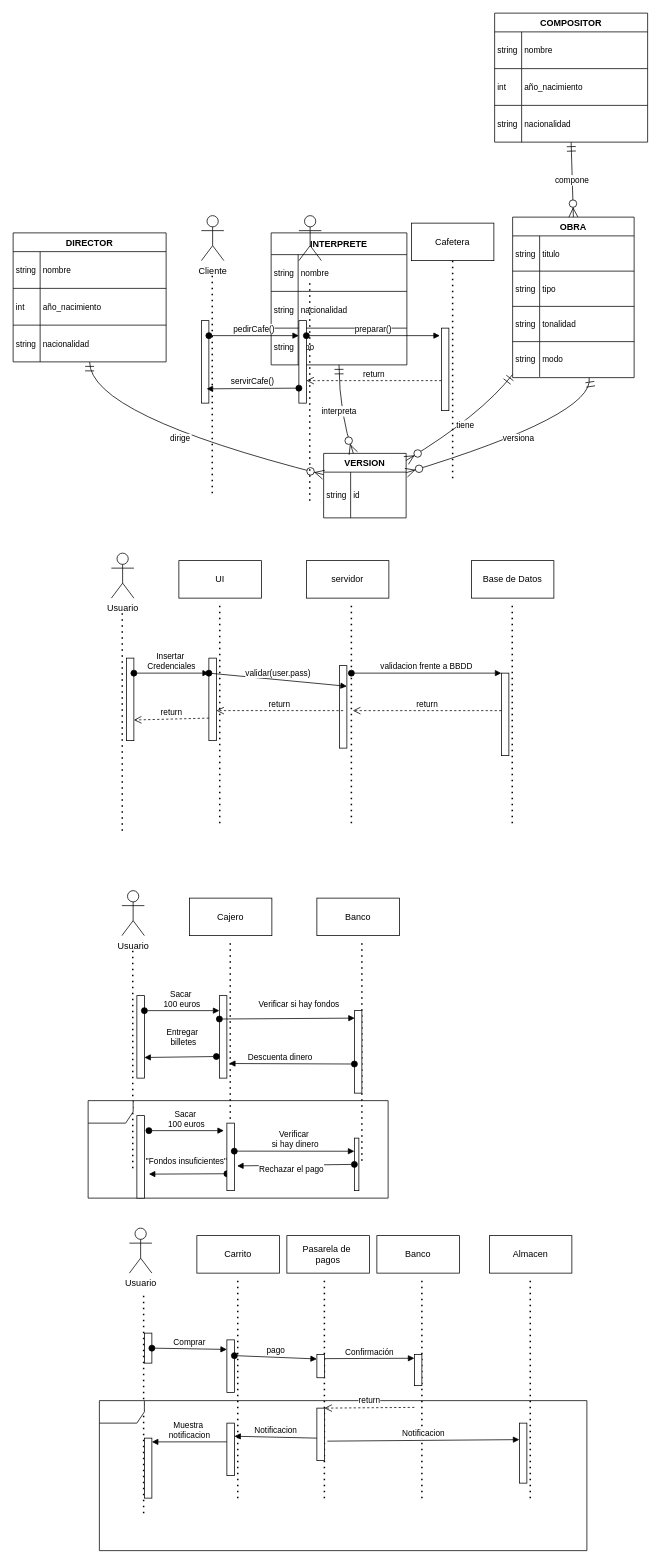
The diagram is 661 pixels wide and 1564 high, and some of its shapes have lost their labels. Here are the shapes that lost their labels. From the top down, the centre of each, then its label:
point 309,238: Barista
point 237,1149: Caso B
point 343,1475: Paralelo
